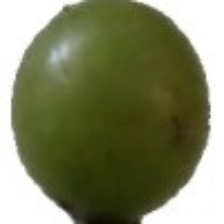grapes: (15, 0, 178, 190)
